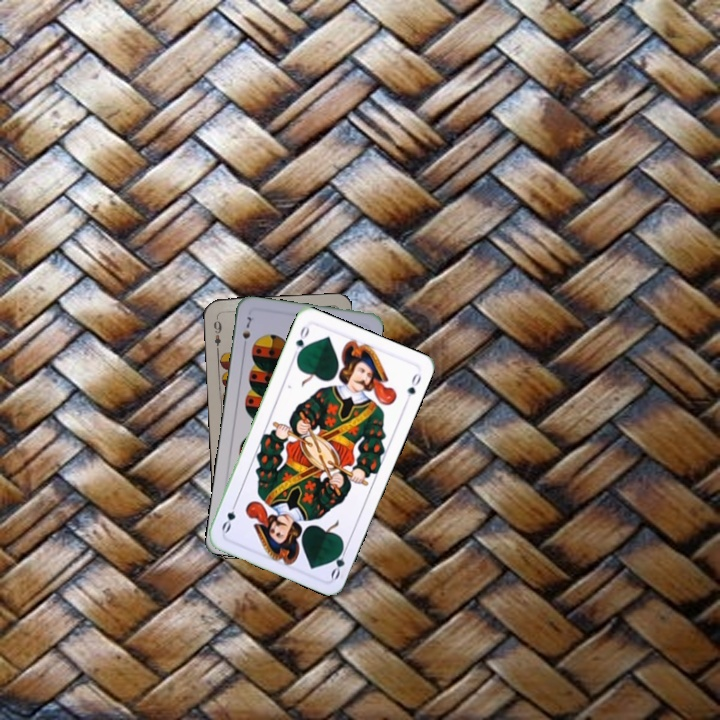E9: (210, 313, 224, 354)
GO: (327, 541, 350, 582), (289, 322, 312, 361)
S7: (238, 312, 255, 351)
